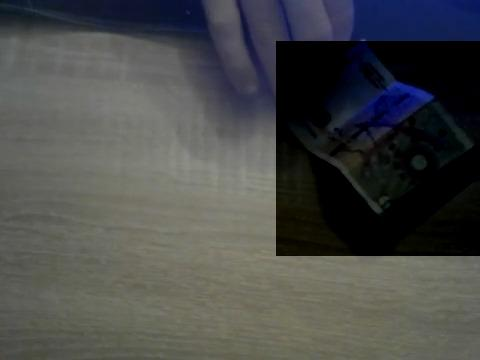10leva: (276, 41, 480, 256)
